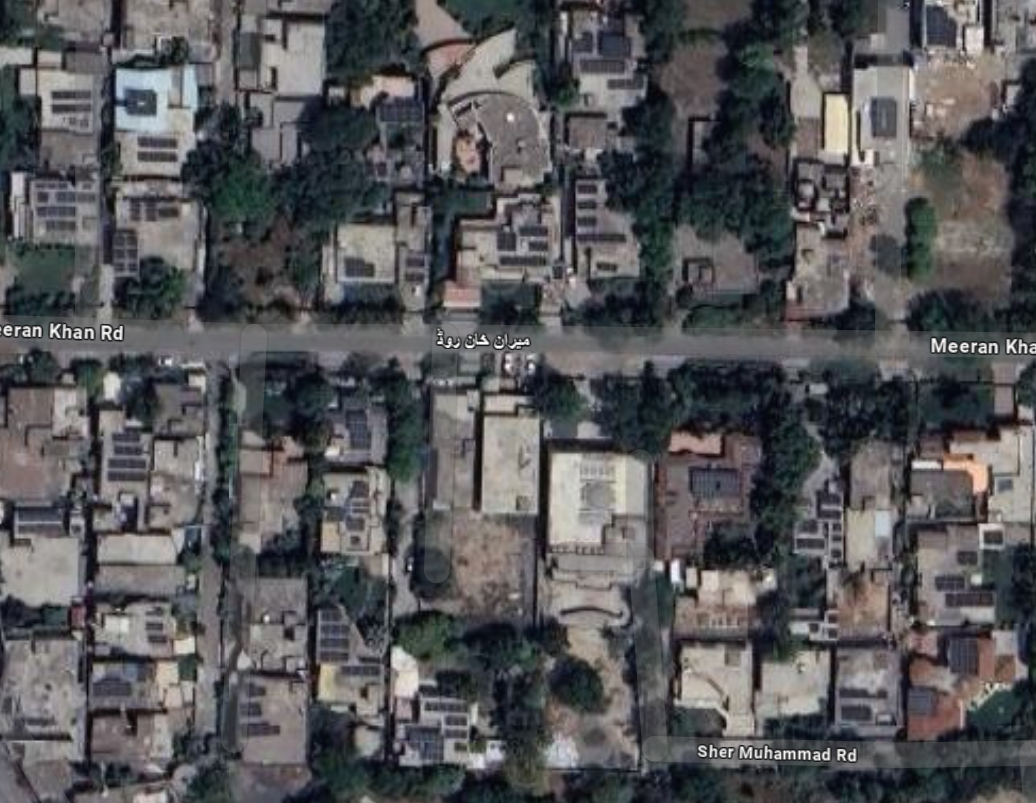solar-panel: (577, 28, 648, 87), (36, 177, 91, 237), (576, 179, 617, 248), (496, 222, 554, 267), (242, 687, 282, 741), (106, 434, 149, 483), (689, 471, 742, 501), (320, 606, 347, 662), (11, 506, 68, 531), (135, 138, 182, 168), (144, 596, 170, 649), (130, 197, 178, 223), (111, 231, 140, 273), (929, 6, 957, 49), (48, 92, 98, 116), (408, 730, 444, 757), (953, 634, 977, 671), (375, 104, 430, 120), (347, 413, 369, 450), (344, 259, 382, 279), (906, 686, 931, 713), (844, 704, 873, 725), (403, 255, 425, 282), (92, 682, 130, 696), (430, 700, 468, 713), (449, 729, 468, 739), (448, 717, 468, 725), (140, 666, 149, 681)
